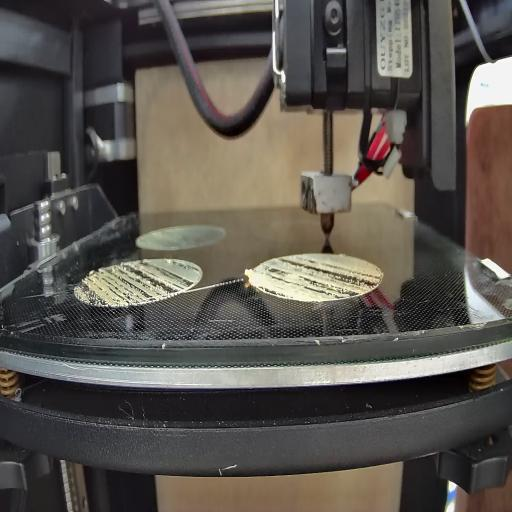under_extrusion: (257, 259, 385, 300), (76, 262, 197, 304)
